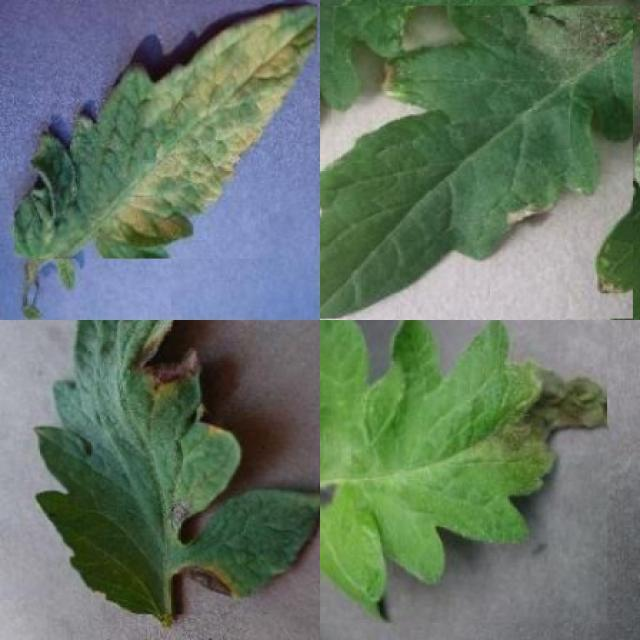Early Blight: (34, 320, 320, 614)
Late Blight: (320, 5, 633, 318), (320, 320, 607, 623)
Leaf Mold: (15, 5, 318, 259)
